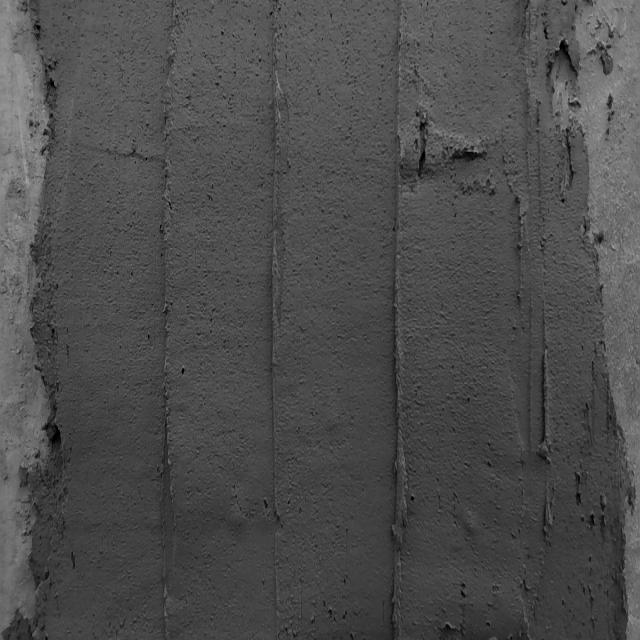trowels marks: (386, 0, 408, 640), (156, 4, 178, 626), (266, 14, 281, 613), (536, 297, 552, 606), (514, 190, 527, 314)
